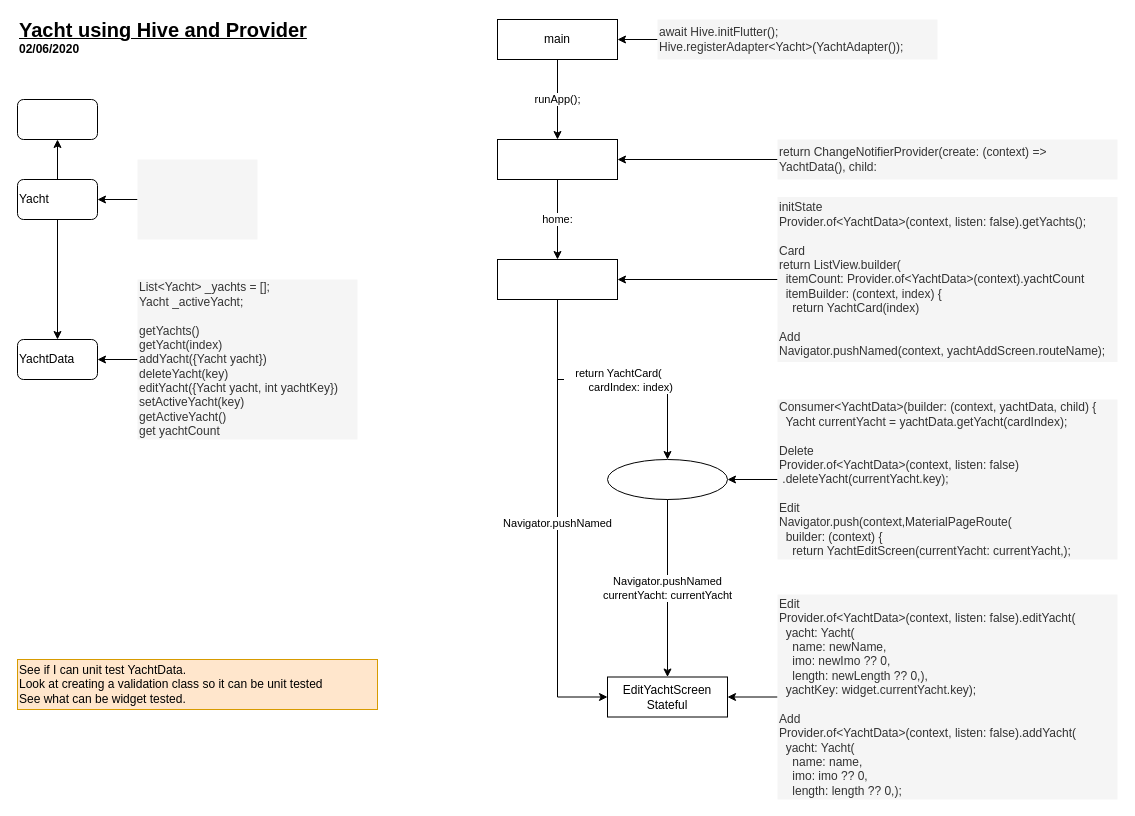
This 1135x816 diagram has some shape labels left out. Here are the shapes that lost their labels. From the top down, the centre of each, then its label:
point 57,119: YachtAdapter
point 557,159: YachtApp Stateless
point 197,199: @HiveType(typeId: 0) String name; int imo; double length;
point 557,279: YachtsScreen Stateful
point 667,479: YachtCard Stateful
